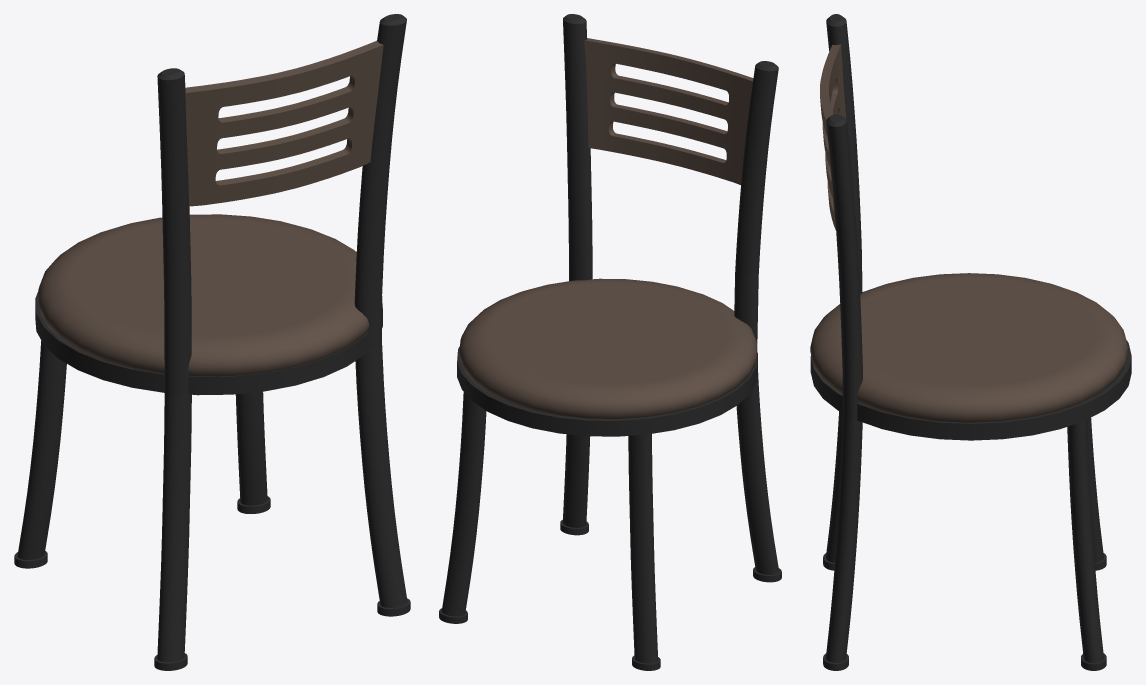
The model's file is Chaise5_10.fbx.
The picture shows the model from 3 angles, left to right: view 1: azimuth 30°, elevation 25°; view 2: azimuth 150°, elevation 25°; view 3: azimuth 270°, elevation 25°; orthographic projection. The views are drawn at different scales.
Parts seen in each view (by area): view 1: pCylinder1683, pCube2686, pCylinder1687, pCylinder1682, pCylinder1686, pCylinder1690, pCylinder1684, pCylinder1688, pCylinder1689; view 2: pCylinder1683, pCube2686, pCylinder1687, pCylinder1682, pCylinder1684, pCylinder1688, pCylinder1689, pCylinder1686, pCylinder1690; view 3: pCylinder1683, pCylinder1682, pCylinder1684, pCylinder1690, pCylinder1689, pCylinder1687, pCube2686, pCylinder1686, pCylinder1688.
Boxes of the visible parts, x1,y1,x2,y2 form: pCylinder1683: (38, 214, 382, 376); pCube2686: (185, 40, 383, 206); pCylinder1687: (157, 68, 191, 395); pCylinder1682: (354, 14, 406, 349); pCylinder1686: (154, 393, 191, 670); pCylinder1690: (355, 344, 410, 616); pCylinder1684: (35, 291, 382, 395); pCylinder1688: (14, 340, 66, 568); pCylinder1689: (235, 391, 270, 513); pCylinder1683: (459, 278, 757, 418); pCube2686: (584, 38, 753, 184); pCylinder1687: (734, 61, 778, 343); pCylinder1682: (563, 14, 592, 281); pCylinder1684: (457, 346, 757, 436); pCylinder1688: (628, 434, 660, 670); pCylinder1689: (439, 392, 486, 623); pCylinder1686: (736, 370, 781, 582); pCylinder1690: (560, 434, 590, 535); pCylinder1683: (810, 273, 1127, 422); pCylinder1682: (826, 114, 862, 419); pCylinder1684: (810, 340, 1131, 440); pCylinder1690: (823, 416, 862, 670); pCylinder1689: (1067, 420, 1106, 670); pCylinder1687: (826, 14, 862, 294); pCube2686: (820, 44, 846, 229); pCylinder1686: (823, 411, 842, 570); pCylinder1688: (1087, 417, 1106, 570).
Bounding box in the file's own units: 44.7 × 83.92 × 44.78.
